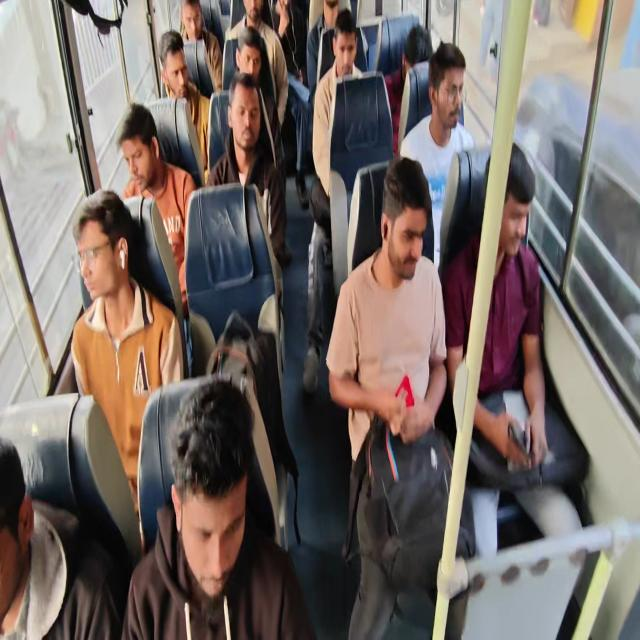person: (325, 156, 471, 638), (441, 141, 587, 564), (121, 376, 316, 638), (70, 188, 184, 538), (0, 436, 123, 639), (302, 9, 364, 393), (399, 42, 475, 266), (118, 102, 196, 315), (206, 71, 289, 268), (226, 0, 289, 129), (158, 30, 210, 172), (383, 24, 432, 154), (306, 0, 366, 96), (179, 0, 223, 94), (270, 0, 308, 83)
